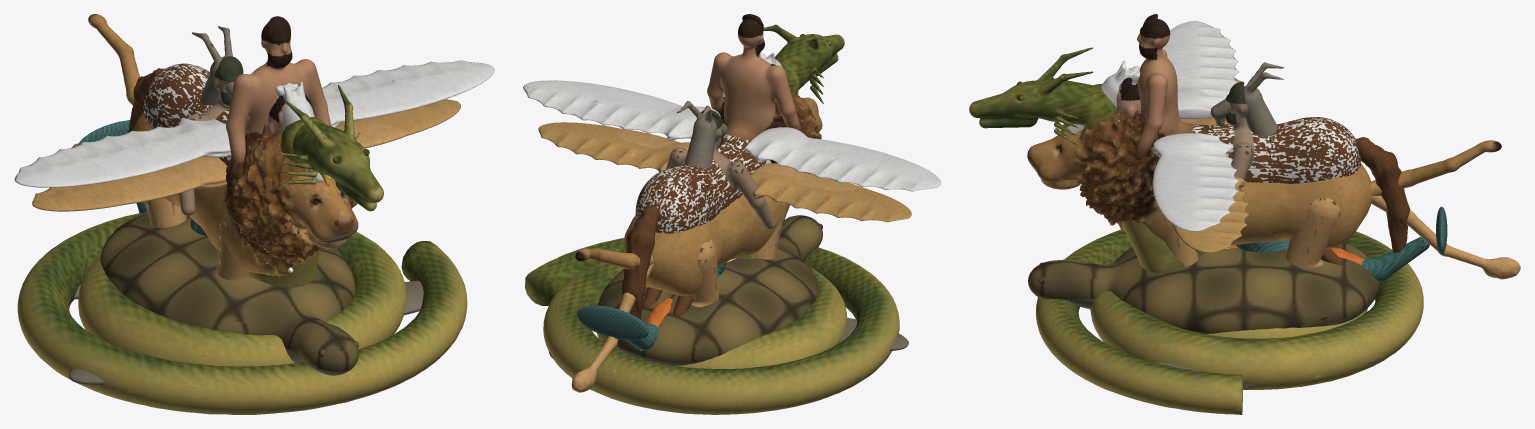
File: criaturas2.glb
3 renders of one model, left to right at view 1: azimuth 30°, elevation 25°; view 2: azimuth 150°, elevation 25°; view 3: azimuth 270°, elevation 25°, orthographic. The views are drawn at different scales.
Visible parts, largest first — view 1: CR_serp_cuerpo, CR_tortuga_cuerpo, CR_quimera_cuerpo, CR_centauro_cuerpo, CR_pegaso_aI, CR_pegaso_aD, CR_serp_cabeza, CR_esfinge_aI, CR_grifo_aI, CR_pegaso_cuerpo, CR_triton_cuerpo, CR_grifo_aD (+6 smaller); view 2: CR_serp_cuerpo, CR_tortuga_cuerpo, CR_centauro_cuerpo, CR_quimera_cuerpo, CR_pegaso_aI, CR_pegaso_aD, CR_triton_cuerpo, CR_grifo_aI, CR_grifo_aD, CR_pegaso_cuerpo, CR_serp_cabeza, CR_centauro_cola (+7 smaller); view 3: CR_serp_cuerpo, CR_tortuga_cuerpo, CR_quimera_cuerpo, CR_centauro_cuerpo, CR_pegaso_aD, CR_serp_cabeza, CR_pegaso_aI, CR_pegaso_cuerpo, CR_triton_cuerpo, CR_centauro_cola, CR_esfinge_pTD, CR_grifo_aD (+4 smaller).
Boxes of the visible parts, <box> form: CR_serp_cuerpo: <box>17,117,467,414</box>; CR_tortuga_cuerpo: <box>68,211,423,384</box>; CR_quimera_cuerpo: <box>133,26,358,276</box>; CR_centauro_cuerpo: <box>143,16,331,165</box>; CR_pegaso_aI: <box>14,117,231,187</box>; CR_pegaso_aD: <box>322,60,494,127</box>; CR_serp_cabeza: <box>278,85,383,211</box>; CR_esfinge_aI: <box>122,157,227,204</box>; CR_grifo_aI: <box>32,156,210,211</box>; CR_pegaso_cuerpo: <box>143,64,331,183</box>; CR_triton_cuerpo: <box>77,56,243,236</box>; CR_grifo_aD: <box>336,99,460,135</box>; CR_serp_cuerpo: <box>525,61,899,414</box>; CR_tortuga_cuerpo: <box>549,215,908,365</box>; CR_centauro_cuerpo: <box>635,14,801,233</box>; CR_quimera_cuerpo: <box>624,94,822,296</box>; CR_pegaso_aI: <box>745,127,940,191</box>; CR_pegaso_aD: <box>523,80,720,141</box>; CR_triton_cuerpo: <box>577,110,776,350</box>; CR_grifo_aI: <box>750,171,911,222</box>; CR_grifo_aD: <box>538,122,675,172</box>; CR_pegaso_cuerpo: <box>635,52,798,233</box>; CR_serp_cabeza: <box>763,24,844,103</box>; CR_centauro_cola: <box>621,205,660,319</box>; CR_serp_cuerpo: <box>1036,84,1423,414</box>; CR_tortuga_cuerpo: <box>1028,242,1379,371</box>; CR_quimera_cuerpo: <box>1027,62,1371,253</box>; CR_centauro_cuerpo: <box>1135,14,1360,183</box>; CR_pegaso_aD: <box>1152,133,1238,231</box>; CR_serp_cabeza: <box>969,47,1093,145</box>; CR_pegaso_aI: <box>1162,21,1238,119</box>; CR_pegaso_cuerpo: <box>1065,60,1360,183</box>; CR_triton_cuerpo: <box>1225,81,1447,281</box>; CR_centauro_cola: <box>1355,137,1410,253</box>; CR_esfinge_pTD: <box>1285,198,1340,267</box>; CR_grifo_aD: <box>1173,177,1249,252</box>.
Bounding box in the file's own units: 3.46 × 2.81 × 3.84.
11 materials, 11 textured.
